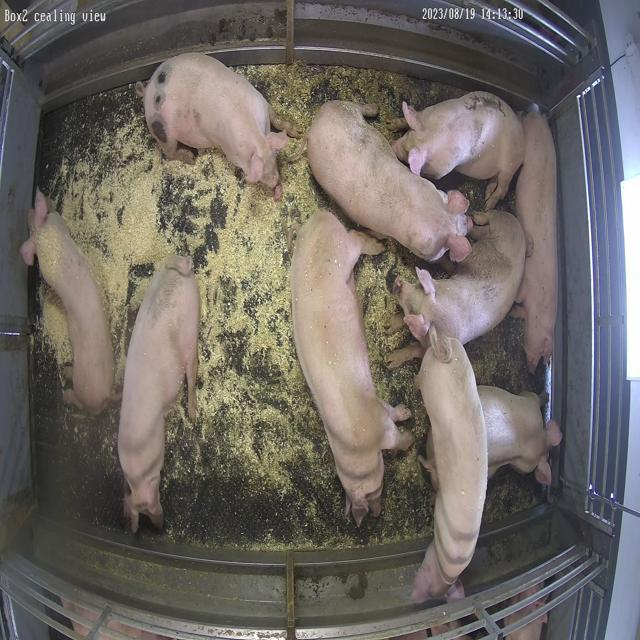Pig: (290, 210, 404, 526), (308, 100, 471, 261), (118, 256, 200, 532), (139, 52, 289, 198), (413, 327, 489, 604), (20, 191, 112, 414), (397, 210, 527, 344), (394, 91, 525, 208), (517, 111, 559, 371), (479, 386, 563, 486)
